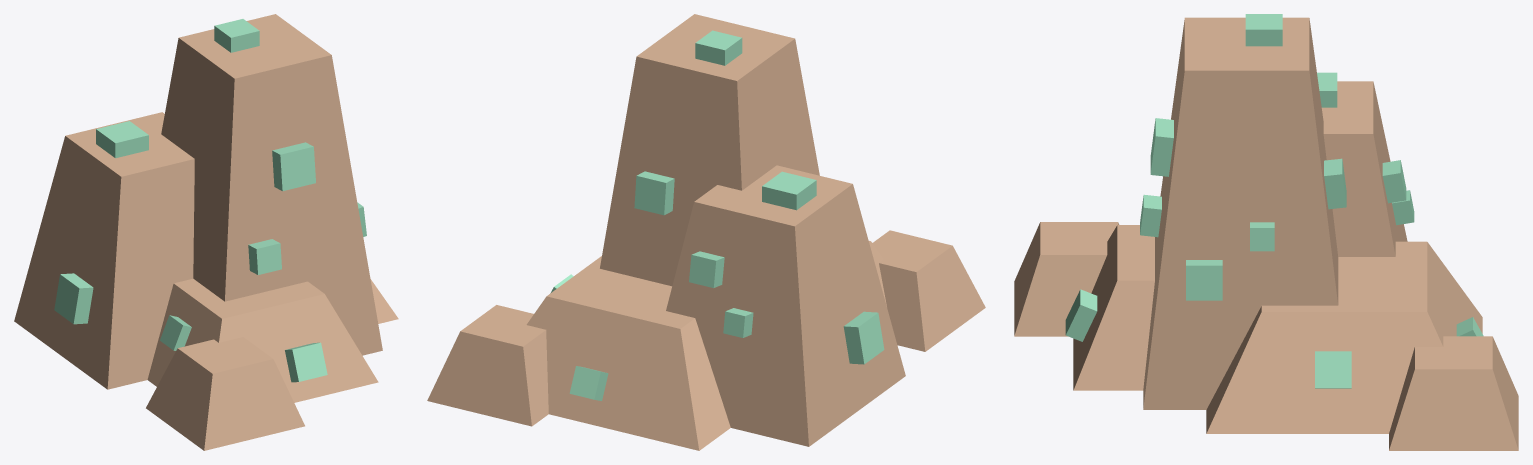
The model's file is rocksTallOre.glb.
3 views of the same model, side by side, from view 1: azimuth 30°, elevation 25°; view 2: azimuth 150°, elevation 25°; view 3: azimuth 270°, elevation 25° (orthographic). The views are drawn at different scales.
Parts seen in each view (by area): view 1: rocksTallOre; view 2: rocksTallOre; view 3: rocksTallOre.
Boxes of the visible parts, x1,y1,x2,y2 form: rocksTallOre: [14, 14, 398, 450]; rocksTallOre: [427, 14, 985, 450]; rocksTallOre: [1014, 14, 1518, 450].
Size of the model in its own units: 6.86 by 6.08 by 8.21.
